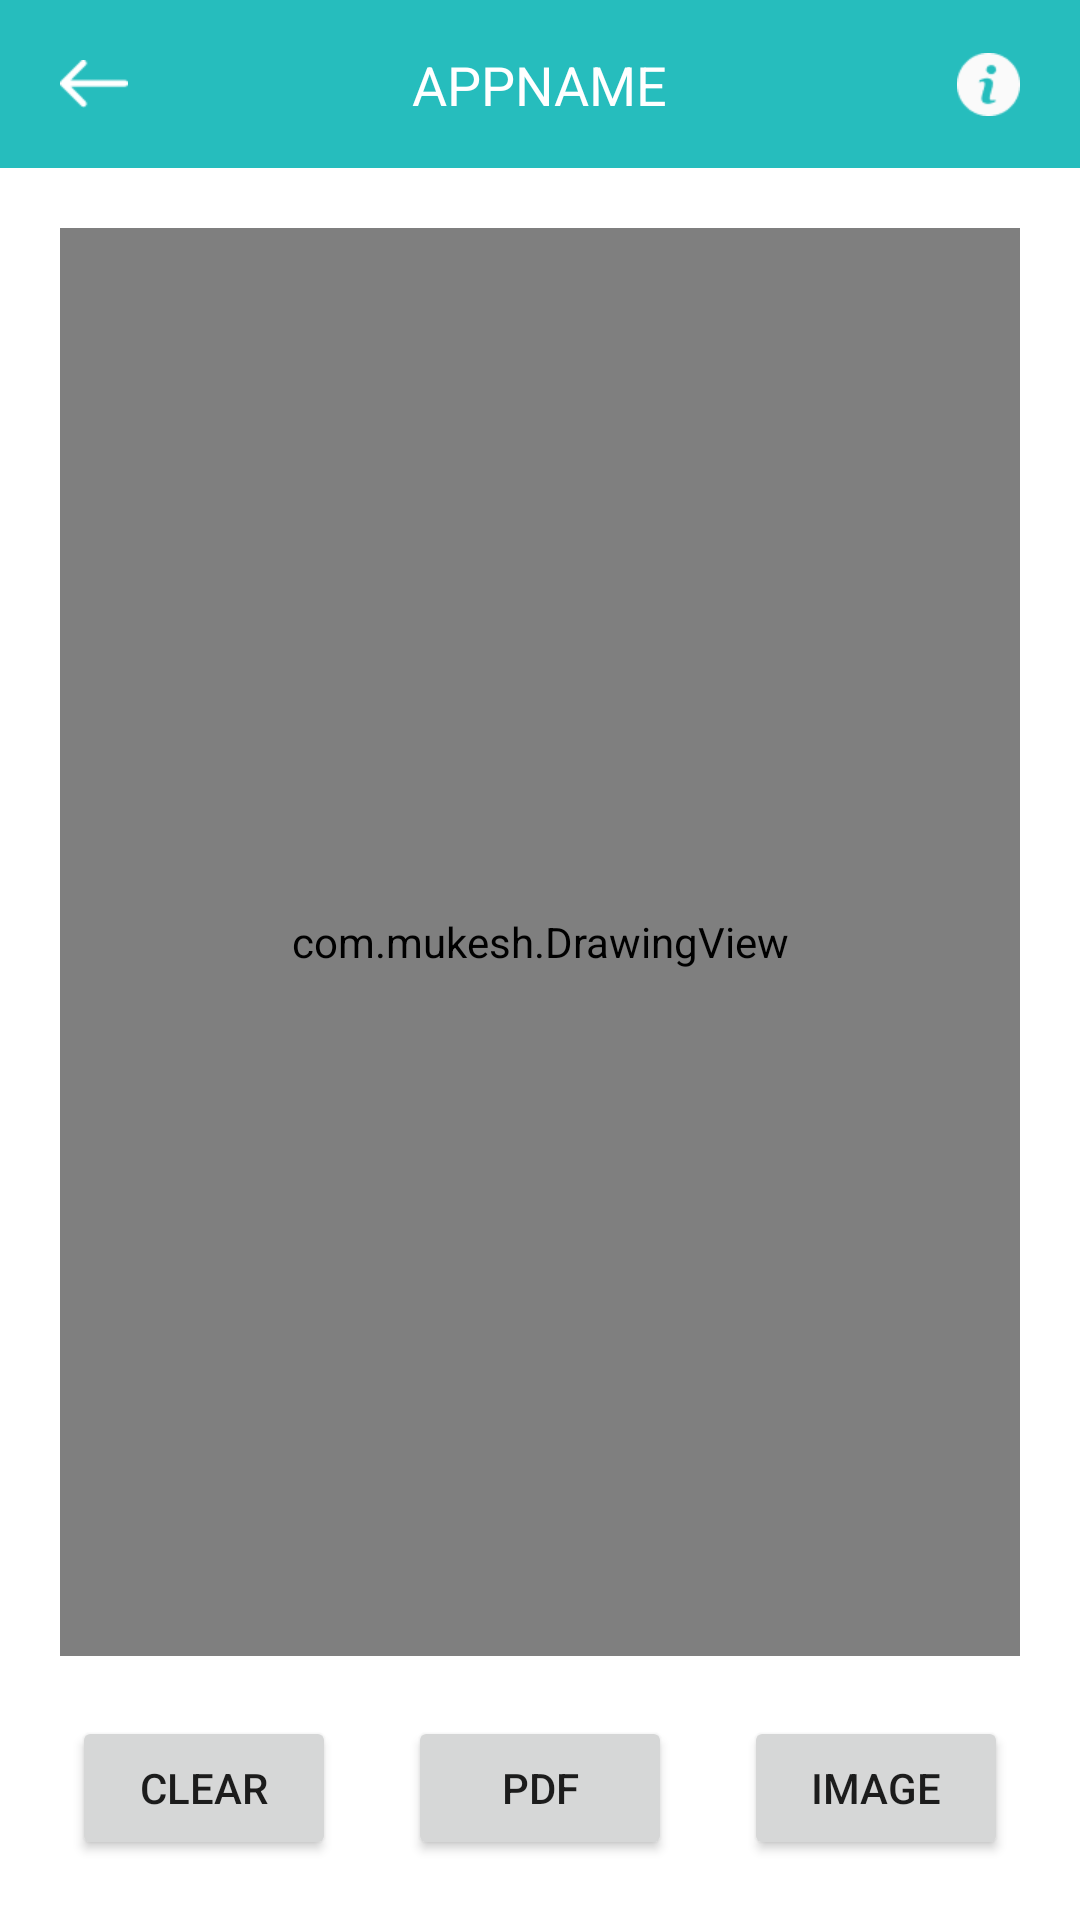

Named icons in this screenshot (1080*1920) and their bounding boxes, box=[x1, y1, x2, y2]:
back: box=[60, 60, 128, 108]
